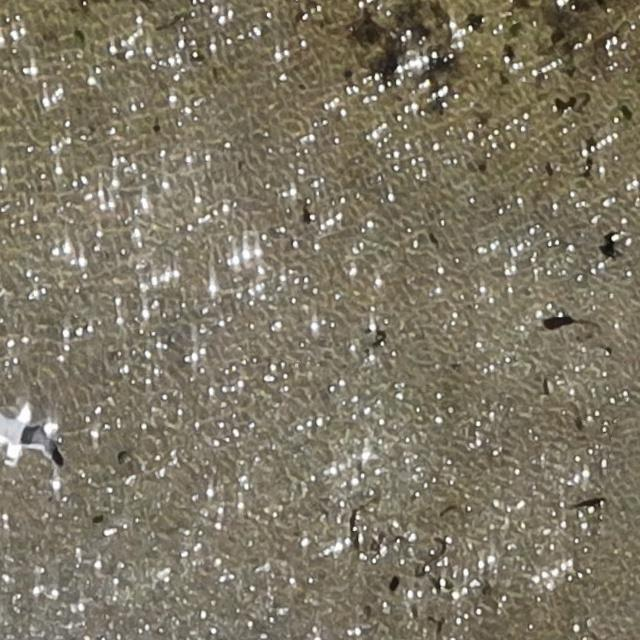F: (0, 400, 64, 470)
